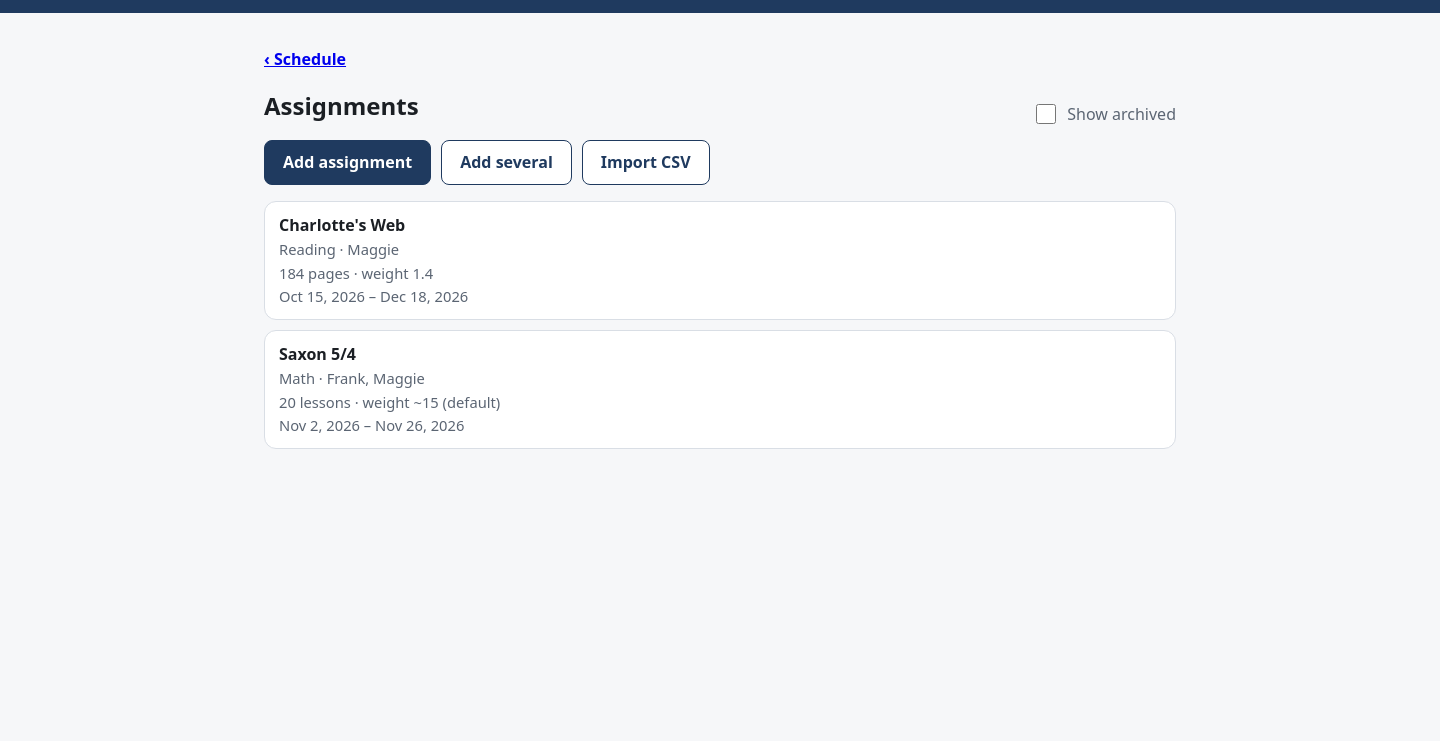
Assignments screen › end before start → error, no request
Expected: the list named "Assignments" is shown, [264,201,1176,449]
Click the button "Saxon 5/4" at (317, 354), box [264,330,1176,449]
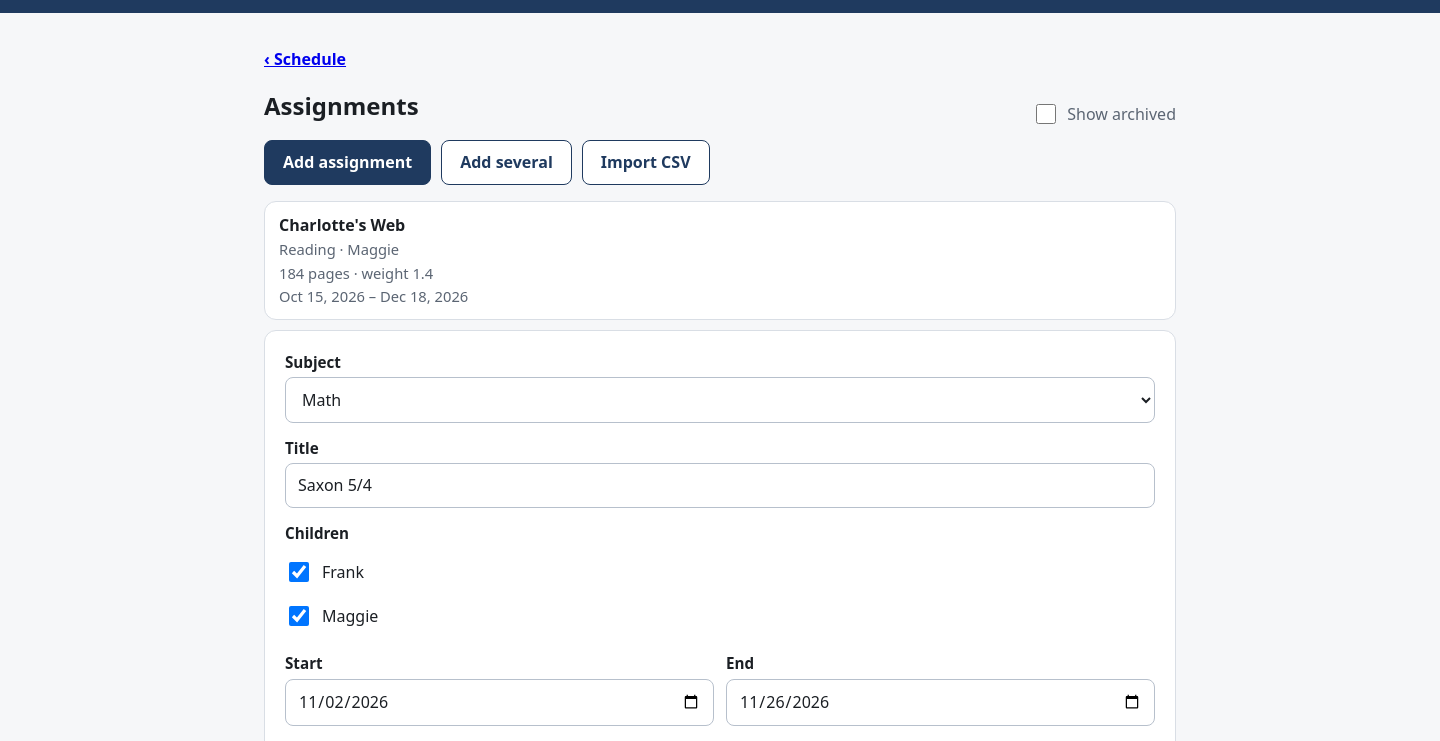
Type "2026-11-01" into the date field labelled "End" at (940, 702), box [726,678,1155,726]
(page scrolled)
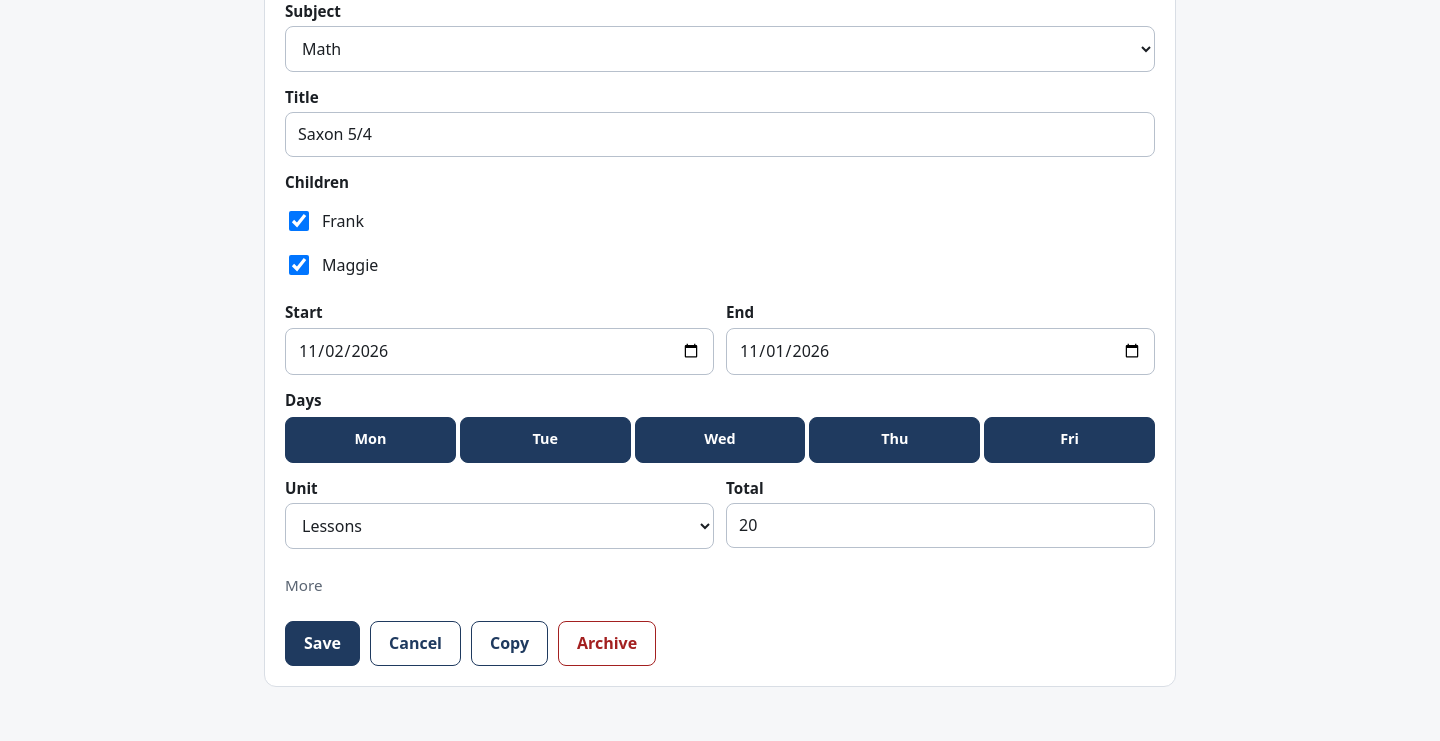
Click the button "Save" at (322, 643), box [285,621,360,666]
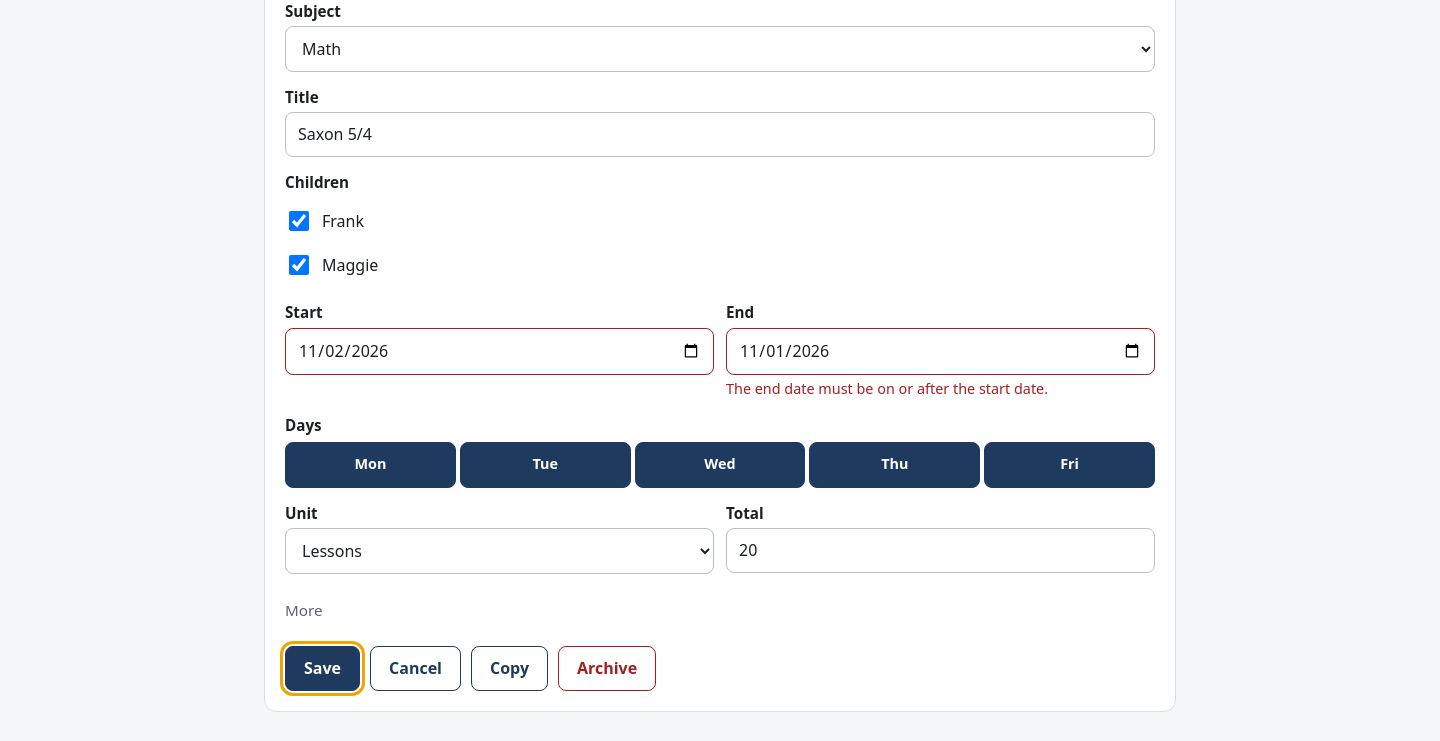
Expected: the text "The end date must be on or after the start date." is shown, [726,379,1048,398]
